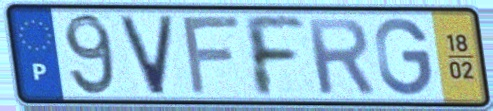9: (59, 11, 117, 99)
F: (238, 12, 310, 100), (179, 13, 245, 98)
G: (372, 15, 435, 98)
R: (302, 15, 379, 97)
V: (116, 12, 177, 98)
